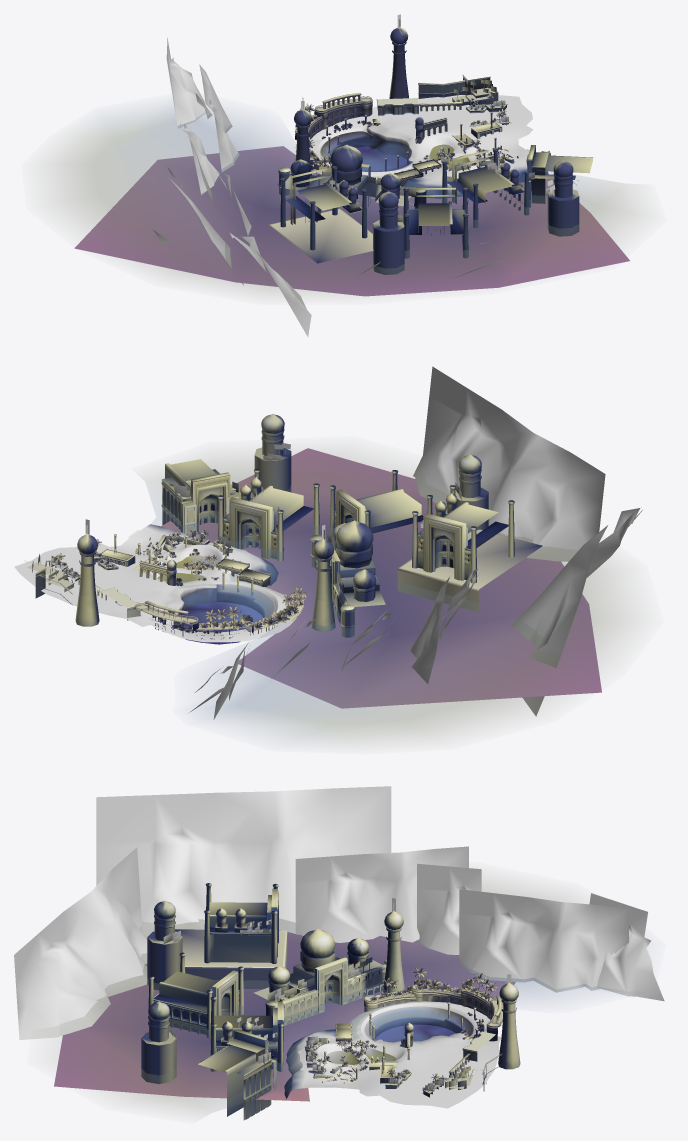
Rendered from 03Oasis.gltf.
The picture shows the model from 3 angles, top to bottom: view 1: azimuth 30°, elevation 25°; view 2: azimuth 150°, elevation 25°; view 3: azimuth 270°, elevation 25°; orthographic projection. The views are drawn at different scales.
Parts seen in each view (by area): view 1: stg010_w26_Mesh_0000, stg010_a33_Mesh_0002, stg010_o31_Mesh_0000, stg010_o33_Mesh_0021, stg010_p11_Mesh_0004, stg010_o33_Mesh_0014, stg010_o10_Mesh_0007, stg010_o30_Mesh_0006, stg010_o30_Mesh_0001, stg010_a28_Mesh_0003, stg010_o30_Mesh_0003, stg010_o30_Mesh_0002 (+7 smaller); view 2: stg010_w26_Mesh_0000, stg010_a33_Mesh_0002, stg010_p11_Mesh_0004, stg010_o31_Mesh_0000, stg010_o33_Mesh_0021, stg010_o10_Mesh_0007, stg010_o33_Mesh_0014, stg010_o30_Mesh_0004, stg010_o30_Mesh_0006, stg010_o30_Mesh_0001, stg010_o30_Mesh_0003, stg010_o30_Mesh_0002 (+7 smaller); view 3: stg010_p11_Mesh_0004, stg010_w26_Mesh_0000, stg010_a33_Mesh_0002, stg010_o31_Mesh_0000, stg010_o33_Mesh_0021, stg010_o10_Mesh_0007, stg010_o30_Mesh_0003, stg010_o30_Mesh_0001, stg010_o30_Mesh_0004, stg010_o33_Mesh_0014, stg010_o30_Mesh_0006, stg010_p33_Mesh_0000 (+10 smaller).
Part boxes in pixels (x1,y1,x2,y2): stg010_w26_Mesh_0000: (48, 103, 641, 294); stg010_a33_Mesh_0002: (74, 131, 629, 296); stg010_o31_Mesh_0000: (268, 75, 593, 263); stg010_o33_Mesh_0021: (310, 95, 533, 179); stg010_p11_Mesh_0004: (153, 37, 502, 336); stg010_o33_Mesh_0014: (271, 87, 578, 262); stg010_o10_Mesh_0007: (281, 97, 579, 274); stg010_o30_Mesh_0006: (279, 45, 529, 258); stg010_o30_Mesh_0001: (290, 27, 573, 208); stg010_a28_Mesh_0003: (367, 125, 548, 198); stg010_o30_Mesh_0003: (291, 42, 573, 224); stg010_o30_Mesh_0002: (281, 42, 572, 223); stg010_w26_Mesh_0000: (144, 452, 633, 742); stg010_a33_Mesh_0002: (158, 448, 601, 708); stg010_p11_Mesh_0004: (189, 366, 642, 719); stg010_o31_Mesh_0000: (24, 429, 542, 643); stg010_o33_Mesh_0021: (14, 527, 296, 642); stg010_o10_Mesh_0007: (79, 454, 513, 631); stg010_o33_Mesh_0014: (27, 447, 539, 631); stg010_o30_Mesh_0004: (35, 481, 461, 632); stg010_o30_Mesh_0006: (81, 480, 514, 637); stg010_o30_Mesh_0001: (48, 414, 481, 616); stg010_o30_Mesh_0003: (79, 429, 481, 624); stg010_o30_Mesh_0002: (37, 428, 513, 632); stg010_p11_Mesh_0004: (14, 786, 664, 1039); stg010_w26_Mesh_0000: (62, 877, 612, 1114); stg010_a33_Mesh_0002: (54, 930, 515, 1101); stg010_o31_Mesh_0000: (141, 883, 503, 1120); stg010_o33_Mesh_0021: (300, 1001, 501, 1108); stg010_o10_Mesh_0007: (141, 887, 500, 1083); stg010_o30_Mesh_0003: (148, 889, 516, 1083); stg010_o30_Mesh_0001: (148, 900, 518, 1095); stg010_o30_Mesh_0004: (217, 895, 517, 1100); stg010_o33_Mesh_0014: (141, 930, 503, 1092); stg010_o30_Mesh_0006: (148, 892, 515, 1091); stg010_p33_Mesh_0000: (163, 922, 466, 1094).
Size of the model in its own units: 888 by 224 by 917.
